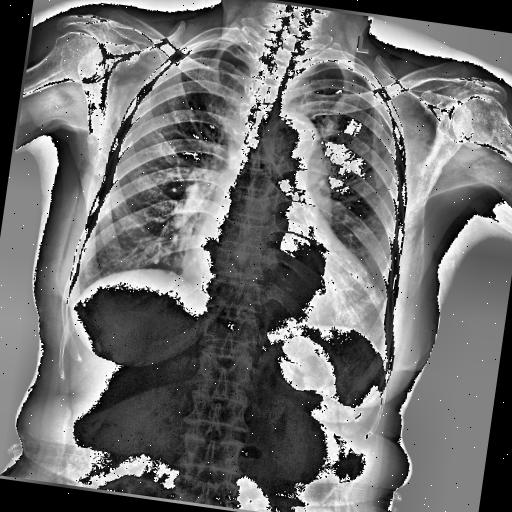0- Aortic enlargement: (260, 109, 344, 199), (260, 108, 336, 184), (262, 106, 330, 176)
3- Cardiomegaly: (182, 214, 392, 334), (174, 238, 386, 336), (174, 244, 390, 336)
